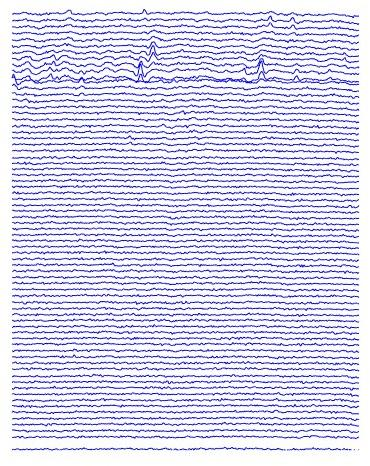defect: (249, 53, 268, 83), (265, 16, 303, 29), (74, 65, 87, 101), (145, 40, 163, 62), (130, 61, 146, 83), (290, 65, 301, 83)
